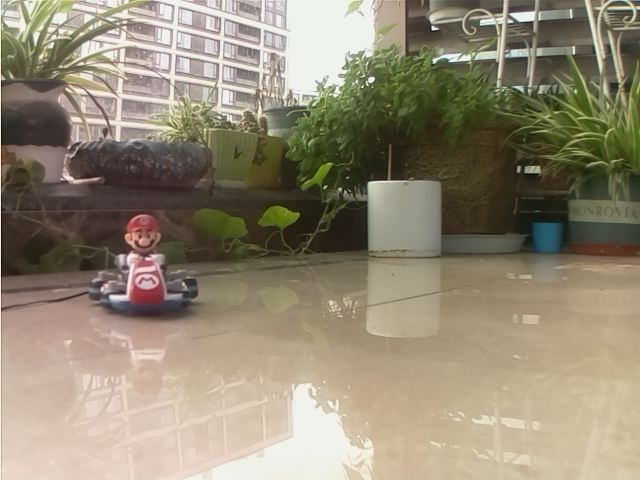mario: (73, 209, 208, 316)
